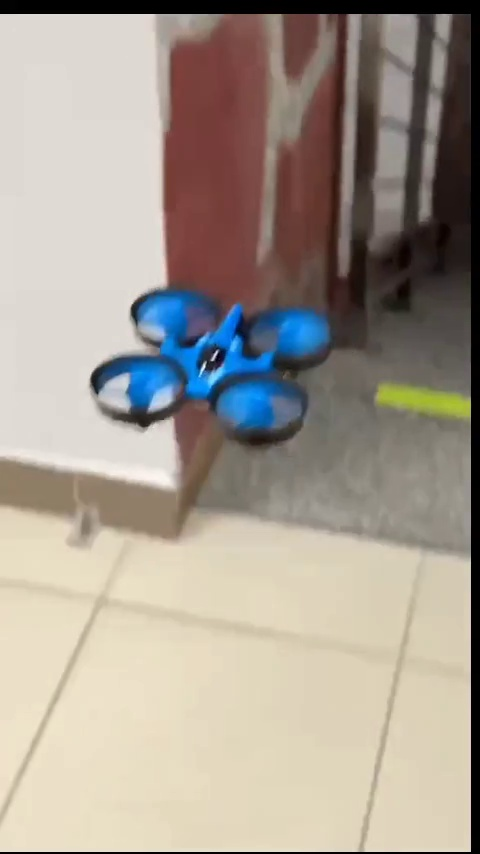drone: (84, 286, 323, 437)
